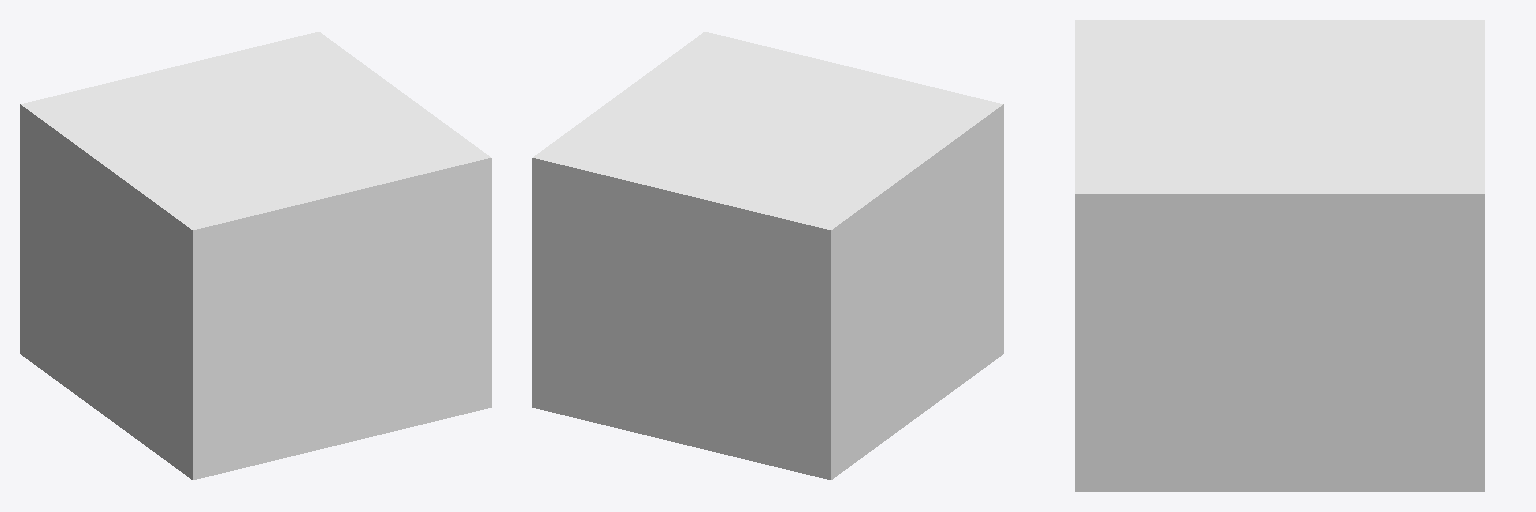
robot.urdf — cubeDE:
<?xml version="1.0"?>
<robot name="cubeDE">
	<link name="base">
	<inertial>
        	 <origin xyz="0 0 0" rpy="0 0 0"/>
        	 <mass value="1"/>
        	 <inertia ixx="0.000683333"  ixy="0"  ixz="0" iyy="0.000683333" iyz="0" izz="0.000683333" />
       </inertial>
		<visual>
			<origin xyz="0 0 0" rpy="0 0 0" />
			<geometry>
				<box size="0.05 0.05 0.04" />
			</geometry>
			<material>
				<color rgba="1 1 1 1" />
			</material>
		</visual>
	</link>
</robot>

--- Render facts (derived) ---
3 views of the same robot in one strip: view 1: azimuth 30°, elevation 25°; view 2: azimuth 150°, elevation 25°; view 3: azimuth 270°, elevation 25° (orthographic).
Robot: cubeDE — 1 links, 0 joints (none); root link base; default pose: all joints at 0.
Visible links, largest first — view 1: base; view 2: base; view 3: base.
Link boxes in pixels (x1=…): base: x1=20, y1=32, x2=491, y2=479; base: x1=532, y1=32, x2=1003, y2=479; base: x1=1075, y1=20, x2=1484, y2=491.
Size in the robot's own frame: 0.05 by 0.05 by 0.04 metres.
Geometry: primitives only (box / cylinder / sphere), no mesh files.
